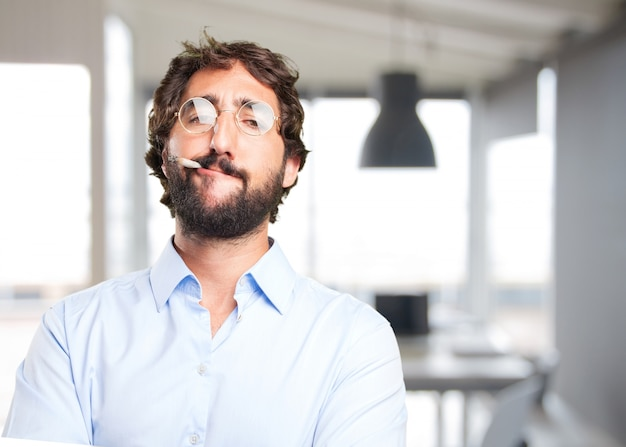cigarette: (167, 154, 201, 169)
